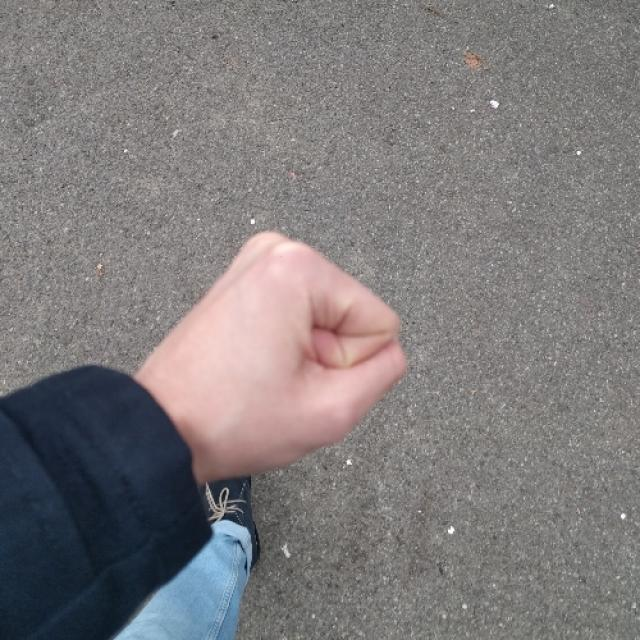rock: (170, 224, 410, 468)
